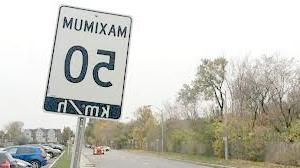speed limit sign: (44, 3, 133, 123)
